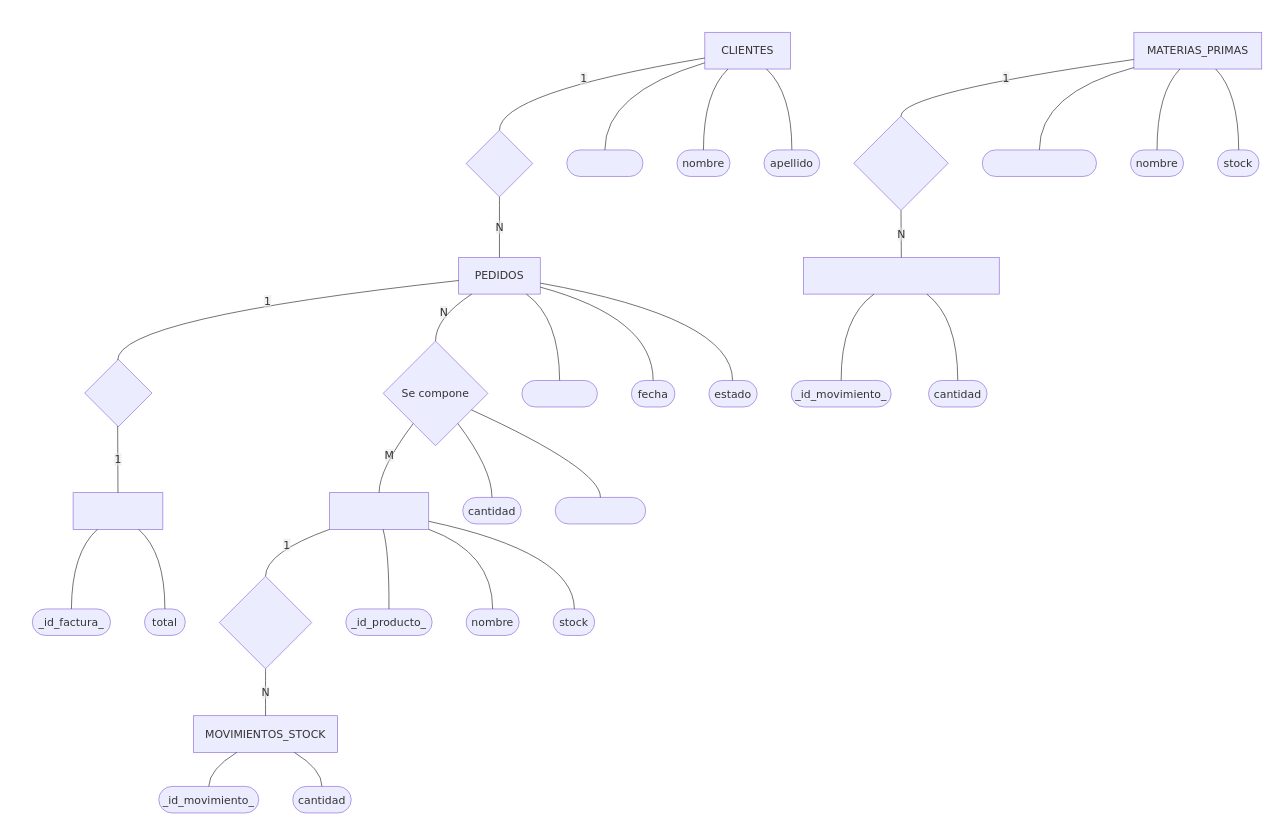
Some shapes in this 1274 by 825 pixel diagram are drawn without their labels. The box of each missing label's shape, as (x1, y1, x2, y2) in pixels:
_id_cliente_: (566, 149, 643, 176)
_id_materia_prima_: (982, 149, 1096, 176)
_id_pedido_: (521, 380, 597, 407)
FACTURAS: (72, 492, 163, 529)
Genera: (84, 359, 152, 427)
MOVIMIENTOS_STOCK_MATERIAS: (803, 257, 999, 294)
precio_unitario: (555, 497, 646, 524)
PRODUCTOS: (329, 492, 429, 529)
Realiza: (465, 130, 533, 197)
Registra_M: (853, 115, 948, 210)
Registra_P: (219, 576, 312, 669)
